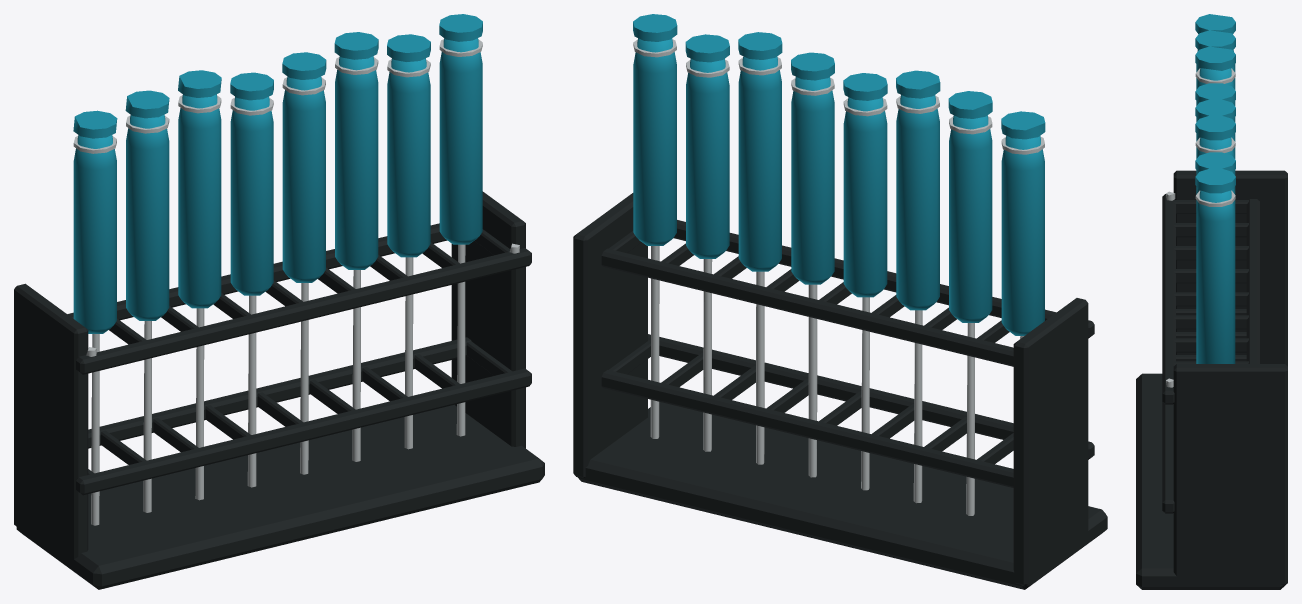
3 renders of one model, left to right at view 1: azimuth 30°, elevation 25°; view 2: azimuth 150°, elevation 25°; view 3: azimuth 270°, elevation 25°, orthographic. The views are drawn at different scales.
Visible parts, largest first — view 1: Black rack base, Blue anodised grip 00, Driver 00 polished shaft; view 2: Black rack base, Blue anodised grip 00, Driver 00 polished shaft; view 3: Black rack base, Blue anodised grip 00, Driver 00 polished shaft.
Boxes of the visible parts, x1,y1,x2,y2 form: Black rack base: [14, 191, 544, 589]; Blue anodised grip 00: [73, 14, 482, 333]; Driver 00 polished shaft: [73, 39, 519, 525]; Black rack base: [573, 193, 1107, 589]; Blue anodised grip 00: [633, 14, 1045, 335]; Driver 00 polished shaft: [633, 39, 1044, 515]; Black rack base: [1136, 170, 1287, 589]; Blue anodised grip 00: [1195, 14, 1235, 363]; Driver 00 polished shaft: [1166, 68, 1235, 387].
Bounding box in the file's own units: 0.314 × 0.296 × 0.101.
